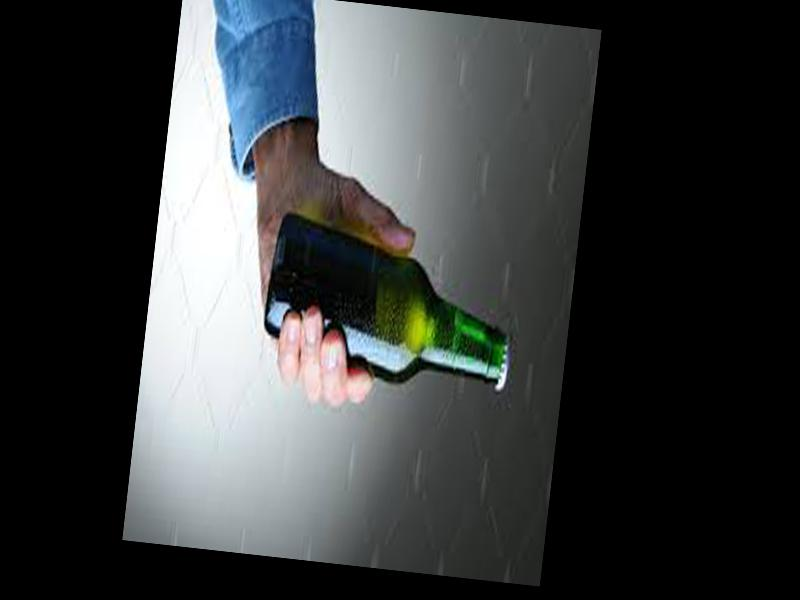Beer: (257, 208, 526, 394)
